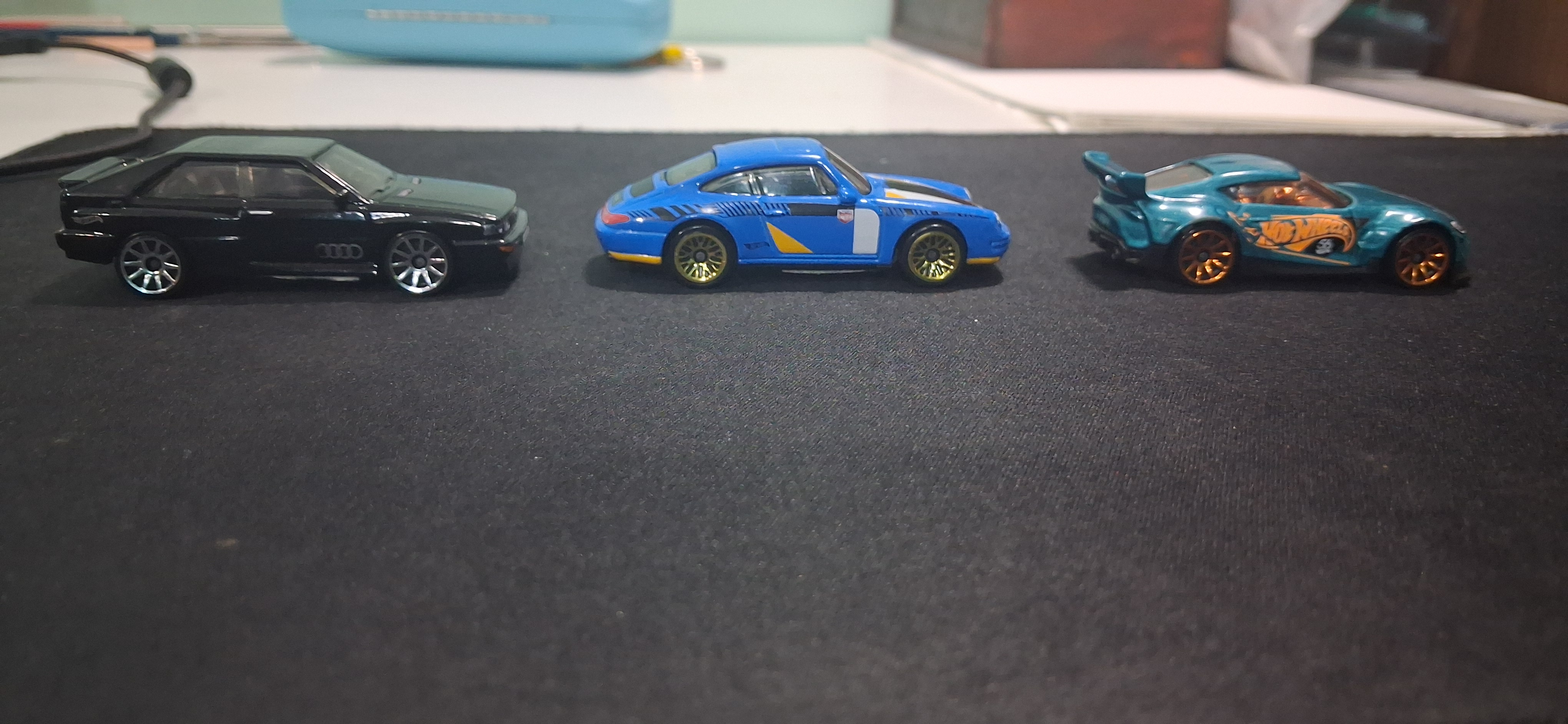Audi_Quattro: (15, 133, 531, 332)
Porsche_Carrera: (570, 128, 1011, 344)
Toyota_GR_Supra: (1051, 150, 1480, 325)
